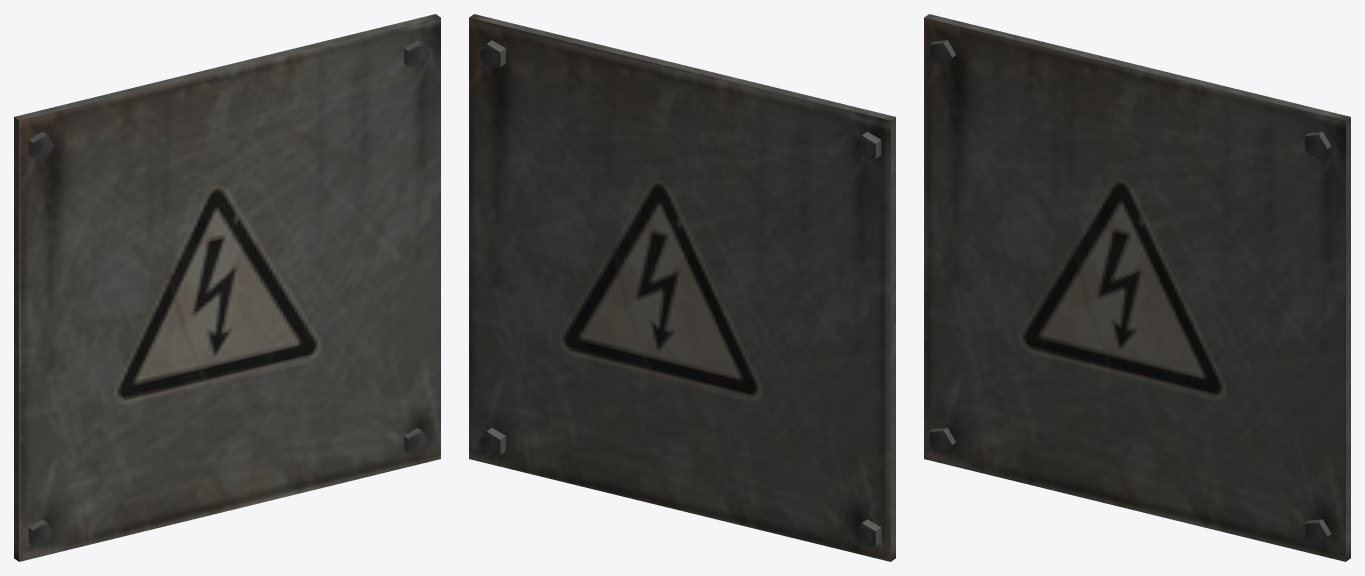
The model's file is door_shaft_panel.dae.
3 views of the same model, side by side, from view 1: azimuth 30°, elevation 25°; view 2: azimuth 150°, elevation 25°; view 3: azimuth 330°, elevation 25° (orthographic).
Parts seen in each view (by area): view 1: polySurface88; view 2: polySurface88; view 3: polySurface88.
Part boxes in pixels (x1=…): polySurface88: x1=14, y1=14, x2=440, y2=561; polySurface88: x1=469, y1=14, x2=895, y2=561; polySurface88: x1=924, y1=14, x2=1350, y2=561.
Size of what is drawn, in the model's own units: 1.07 by 1.07 by 0.0631.
